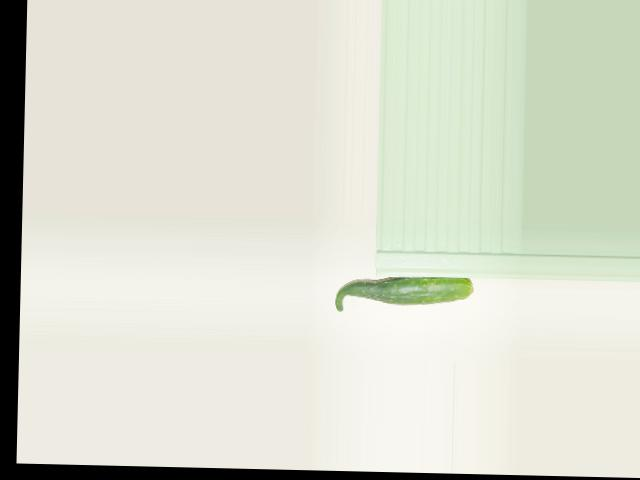cucumber: (334, 274, 473, 314)
